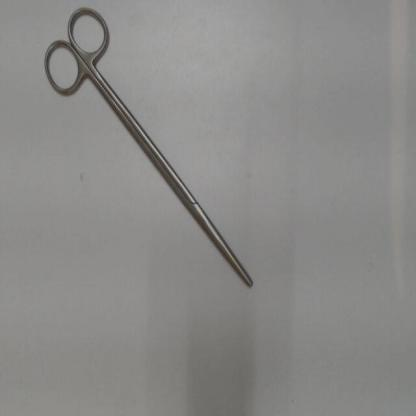9 Metzenbaum Scissors: (40, 1, 261, 295)
